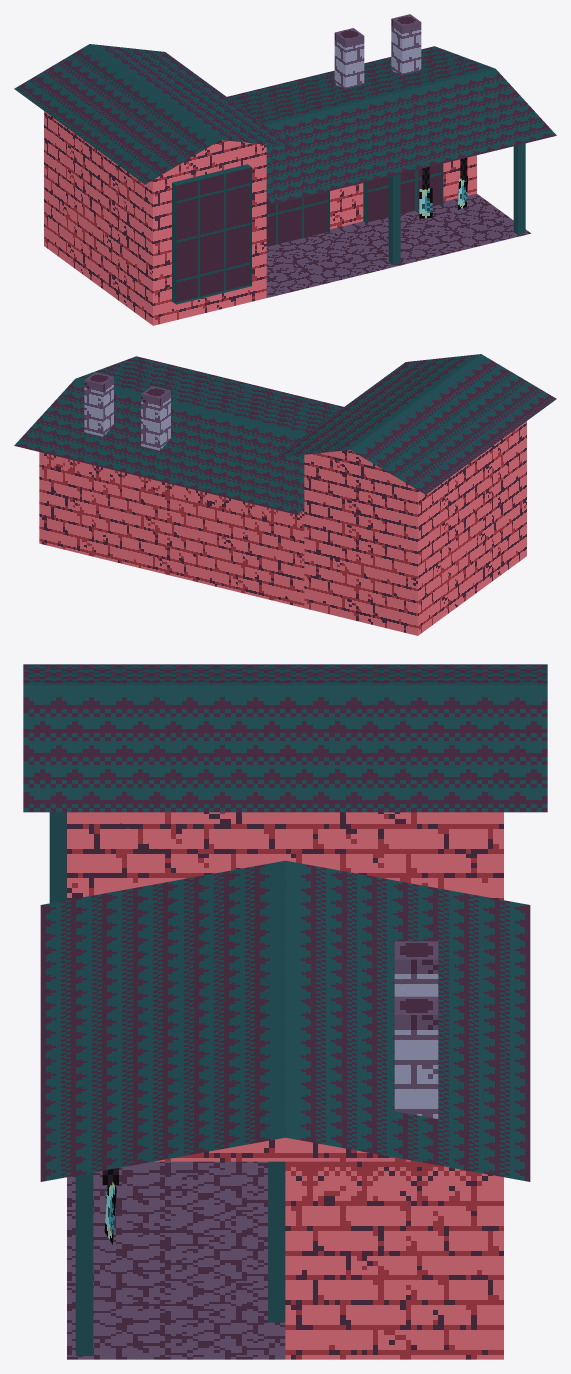
Rendered from commissary_works.glb.
3 renders of one model, top to bottom at view 1: azimuth 30°, elevation 25°; view 2: azimuth 150°, elevation 25°; view 3: azimuth 270°, elevation 25°, orthographic. The views are drawn at different scales.
Parts seen in each view (by area): view 1: commissary_works; view 2: commissary_works; view 3: commissary_works.
Part boxes in pixels (x1,y1,x2,y2): commissary_works: (14,14,556,325); commissary_works: (14,354,556,635); commissary_works: (23,664,547,1359).
Size of the model in its own units: 11 by 4.55 by 6.
Materials: 1 (1 with a texture image).
